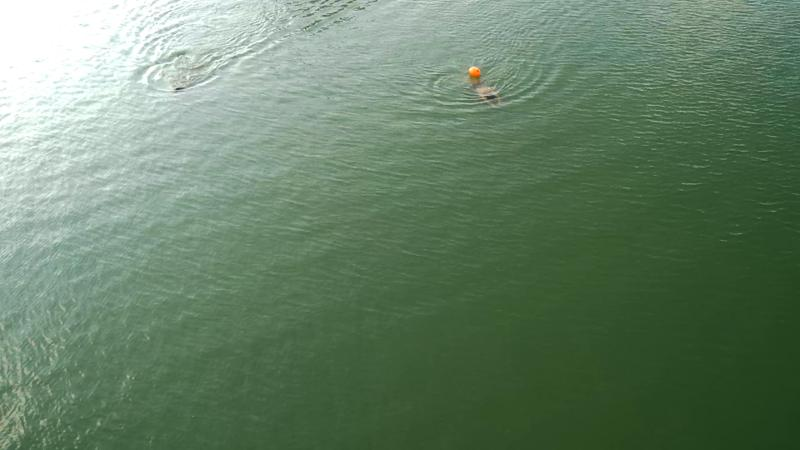swimmers: (462, 77, 502, 110)
